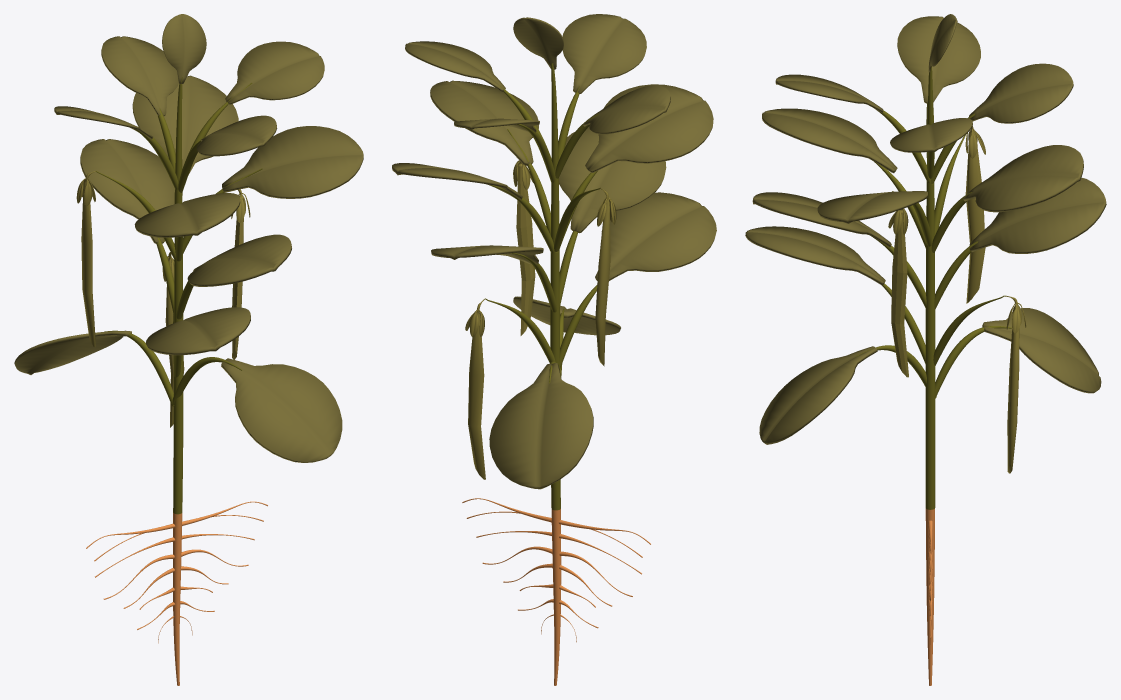
Rendered from planta_final_MUERE.glb.
3 views of the same model, side by side, from view 1: azimuth 30°, elevation 25°; view 2: azimuth 150°, elevation 25°; view 3: azimuth 270°, elevation 25° (orthographic). The views are drawn at different scales.
Visible parts, largest first — view 1: Hoja.099, Hoja.075, Hoja.086, Hoja.080, Hoja.077, raiz_principal.011, Hoja.082, Hoja.073, Hoja.087, Hoja.076, Hoja.100, Hoja.081 (+10 smaller); view 2: Hoja.100, Hoja.073, Hoja.076, Hoja.087, Hoja.081, Hoja.075, raiz_principal.011, Hoja.079, vaina.008, Hoja.080, vaina.009, vaina.010 (+12 smaller); view 3: Hoja.086, Hoja.077, Hoja.099, raiz_principal.011, Hoja.100, Hoja.079, Hoja.082, Hoja.076, Hoja.073, Hoja.075, vaina.009, vaina.010 (+11 smaller).
Part boxes in pixels (bbox=[...]): Hoja.099: bbox=[221, 358, 342, 462]; Hoja.075: bbox=[222, 126, 363, 198]; Hoja.086: bbox=[80, 139, 182, 243]; Hoja.080: bbox=[225, 41, 324, 104]; Hoja.077: bbox=[132, 75, 238, 174]; raiz_principal.011: bbox=[173, 77, 183, 685]; Hoja.082: bbox=[101, 36, 178, 116]; Hoja.073: bbox=[146, 307, 250, 355]; Hoja.087: bbox=[187, 234, 291, 286]; Hoja.076: bbox=[134, 193, 240, 237]; Hoja.100: bbox=[14, 330, 131, 374]; Hoja.081: bbox=[196, 115, 277, 156]; Hoja.100: bbox=[489, 363, 593, 489]; Hoja.073: bbox=[595, 192, 716, 280]; Hoja.076: bbox=[585, 84, 713, 172]; Hoja.087: bbox=[559, 126, 666, 233]; Hoja.081: bbox=[562, 14, 646, 93]; Hoja.075: bbox=[430, 80, 538, 165]; raiz_principal.011: bbox=[550, 63, 561, 685]; Hoja.079: bbox=[582, 85, 670, 134]; vaina.008: bbox=[465, 299, 485, 479]; Hoja.080: bbox=[405, 41, 505, 91]; vaina.009: bbox=[513, 160, 535, 335]; vaina.010: bbox=[595, 188, 616, 366]; Hoja.086: bbox=[969, 177, 1106, 253]; Hoja.077: bbox=[963, 145, 1083, 212]; Hoja.099: bbox=[759, 346, 877, 444]; raiz_principal.011: bbox=[925, 66, 935, 685]; Hoja.100: bbox=[982, 308, 1101, 393]; Hoja.079: bbox=[897, 16, 980, 103]; Hoja.082: bbox=[969, 63, 1073, 123]; Hoja.076: bbox=[762, 108, 897, 173]; Hoja.073: bbox=[745, 226, 885, 285]; Hoja.075: bbox=[817, 191, 927, 223]; vaina.009: bbox=[888, 208, 908, 377]; vaina.010: bbox=[965, 126, 985, 303].
Size of the model in its own units: 2.34 by 5.63 by 2.73.
